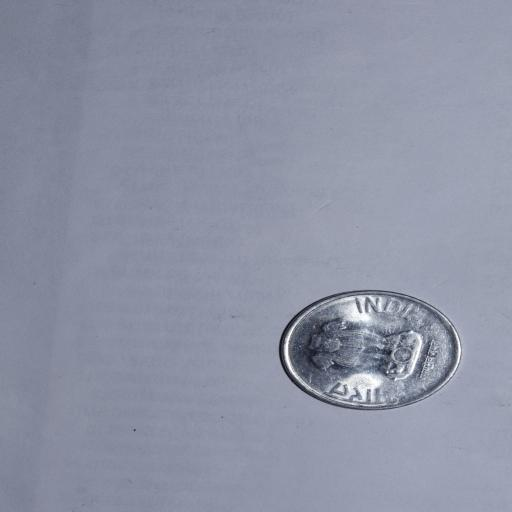rupee2: (277, 290, 462, 412)
